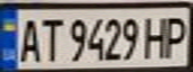2: (103, 14, 124, 62)
4: (84, 14, 106, 62)
9: (63, 14, 87, 62), (121, 14, 142, 62)
A: (12, 15, 45, 63)
H: (139, 12, 172, 60)
P: (160, 11, 193, 60)
T: (36, 15, 66, 63)
